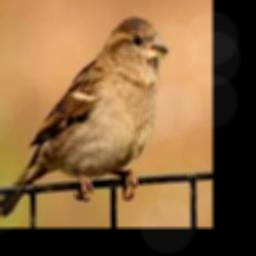Sparrow: (0, 17, 169, 216)
